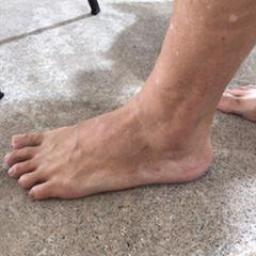Lateral View -Left Foot-: (1, 77, 229, 213)
